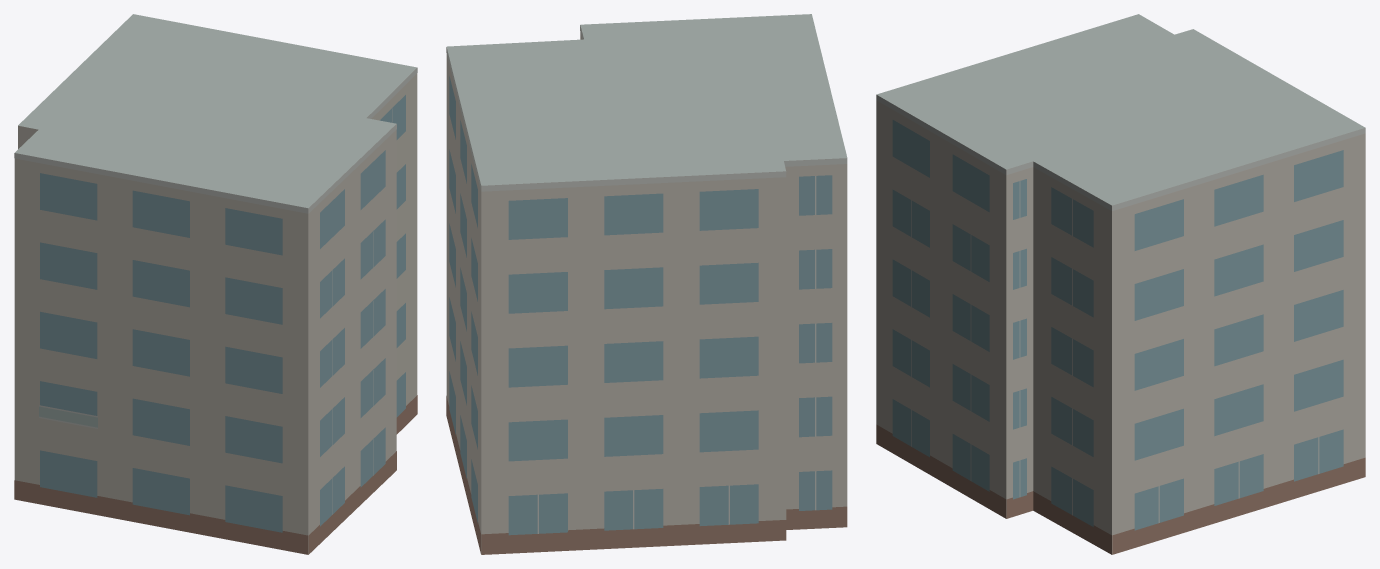
Rendered from survey-upis-33018102.glb.
3 renders of one model, left to right at view 1: azimuth 30°, elevation 25°; view 2: azimuth 150°, elevation 25°; view 3: azimuth 270°, elevation 25°, orthographic. The views are drawn at different scales.
Visible parts, largest first — view 1: survey-upis-33018102.tmp; view 2: survey-upis-33018102.tmp; view 3: survey-upis-33018102.tmp.
Part boxes in pixels (box(x1,y1,x2,y2)): survey-upis-33018102.tmp: box(14, 14, 417, 554); survey-upis-33018102.tmp: box(446, 14, 847, 554); survey-upis-33018102.tmp: box(876, 14, 1365, 554).
Size of the model in its own units: 17.96 by 15.25 by 19.38.
